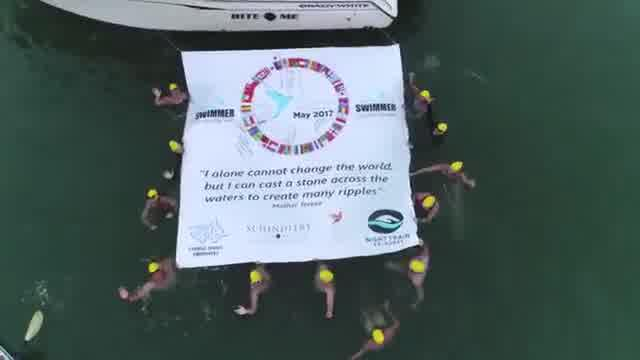human: (110, 256, 180, 305), (355, 300, 403, 360), (386, 250, 436, 305), (408, 154, 478, 192), (135, 185, 179, 231), (307, 261, 339, 322), (242, 260, 274, 320), (400, 74, 430, 124), (151, 82, 191, 112), (412, 187, 438, 222)
